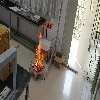fire: (33, 22, 45, 71)
